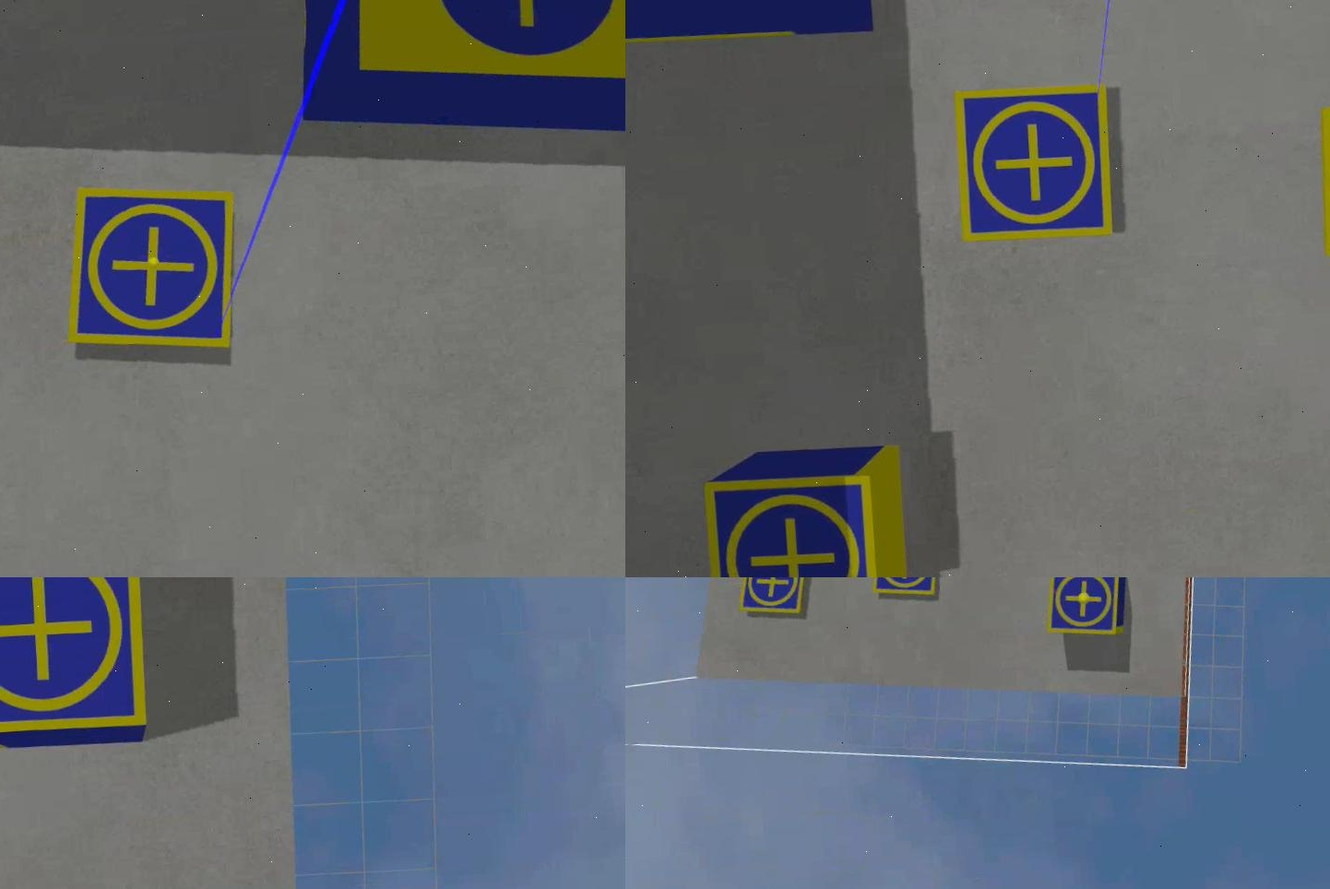large_base: (279, 1, 624, 168)
small_base: (56, 174, 247, 367), (946, 82, 1117, 245), (0, 578, 150, 742), (699, 468, 884, 578), (1040, 578, 1125, 642), (731, 578, 810, 622), (866, 578, 942, 601)
